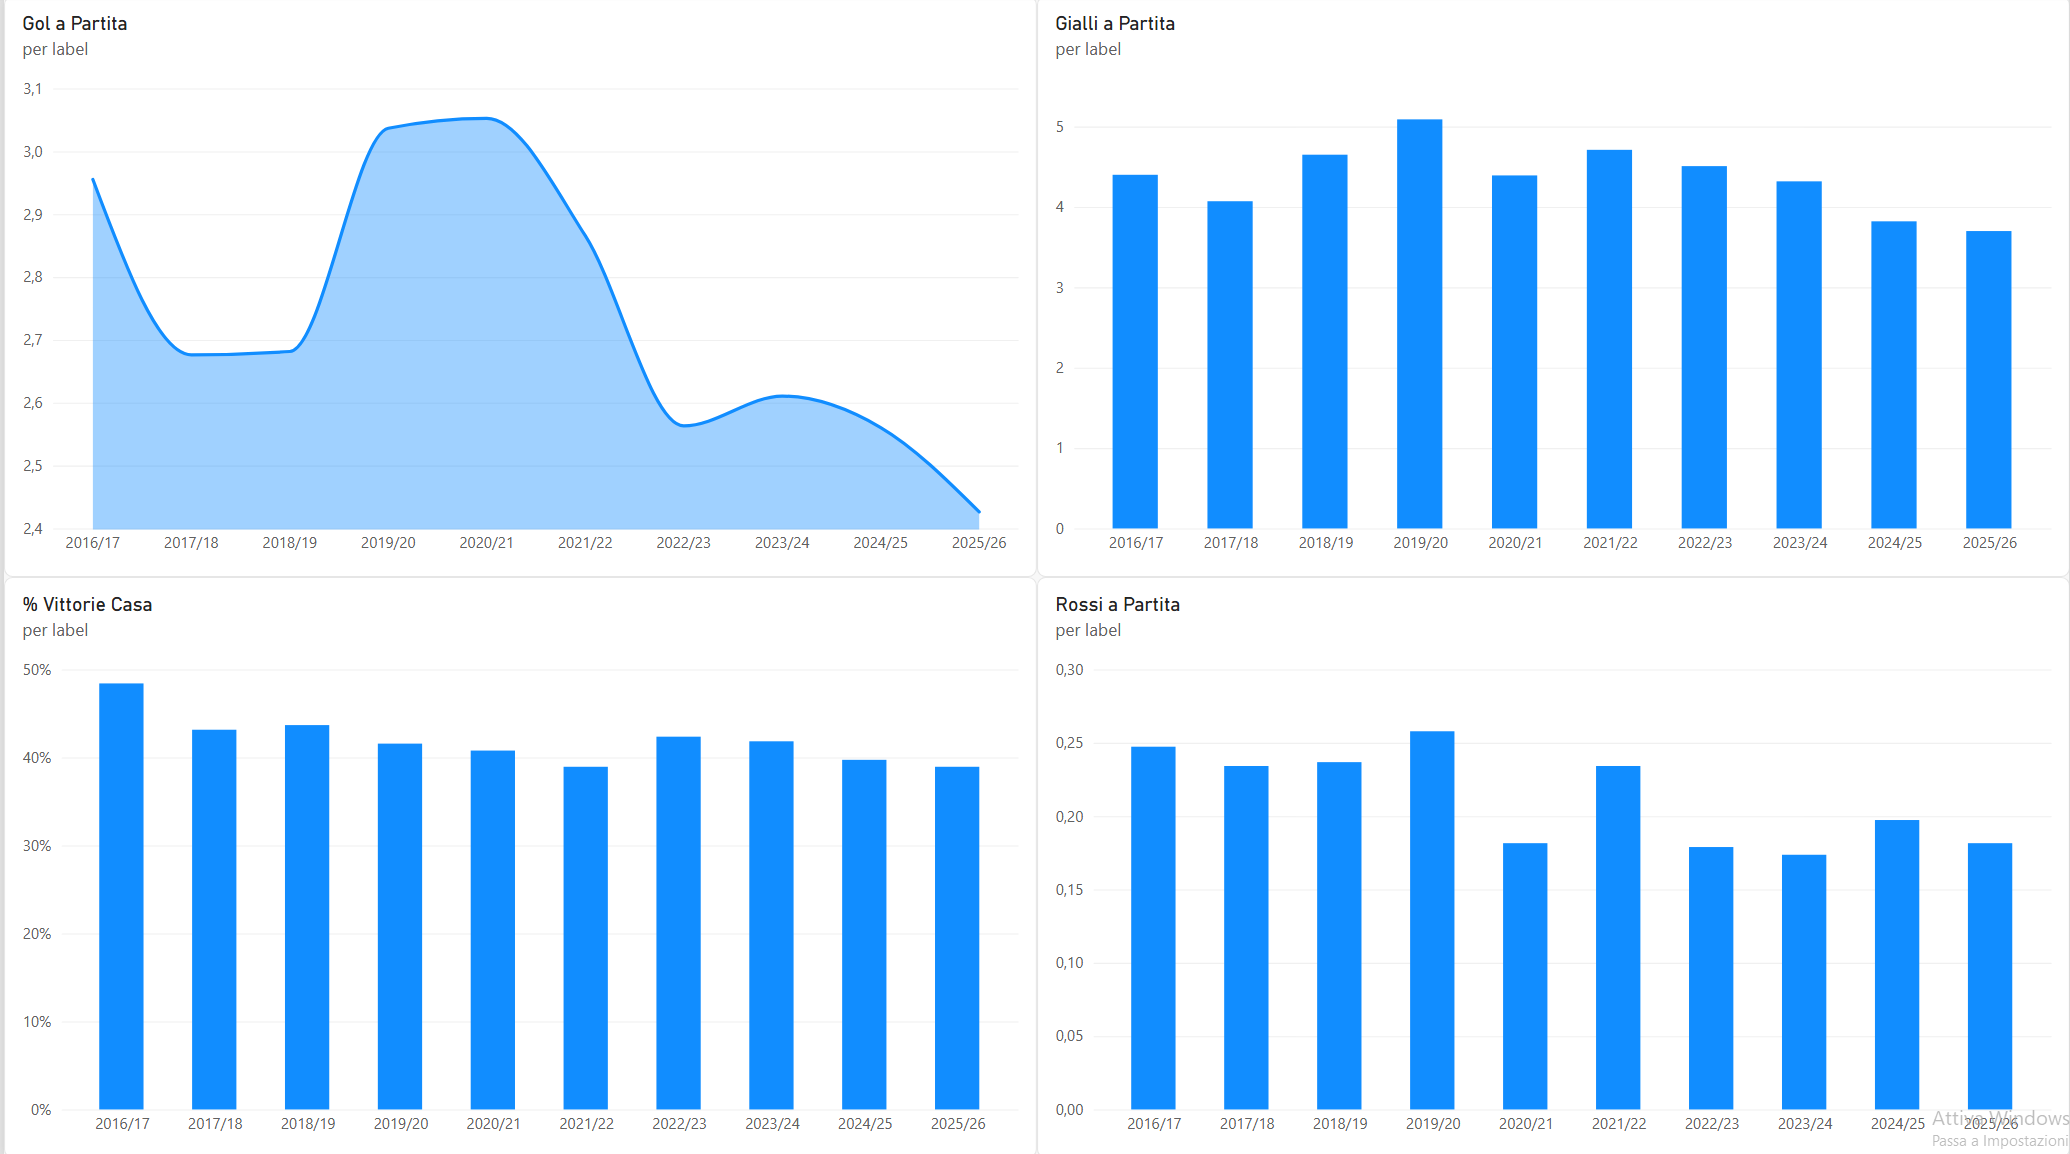

This screenshot's page, from the dashboard's own definition file:
{"tool":"powerbi","page":{"name":"Confronti","canvas":[1920,1080],"ordinal":2},"visuals":[{"type":"areaChart","fields":{"Category":["dim_season.label"],"Y":["Misure.Gol a Partita"]},"box":[0,0,960,539.9],"z":0},{"type":"clusteredColumnChart","fields":{"Category":["dim_season.label"],"Y":["Misure.% Vittorie Casa"]},"box":[0,539.9,960,539.9],"z":1},{"type":"clusteredColumnChart","fields":{"Category":["dim_season.label"],"Y":["Misure.Gialli a Partita"]},"box":[960,0,960,539.9],"z":3},{"type":"clusteredColumnChart","fields":{"Category":["dim_season.label"],"Y":["Misure.Rossi a Partita"]},"box":[960,539.9,960,539.9],"z":4}]}

Visuals, with their boxes on the page's 1920x1080 design canvas (x1, y1, x2, y2). These are canvas units, not pixel positions in the 2070x1154 screenshot, which may show the page scaled, cropped or inside an application window:
areaChart - dim_season.label x Misure.Gol a Partita: 0 0 960 540
clusteredColumnChart - dim_season.label x Misure.% Vittorie Casa: 0 540 960 1080
clusteredColumnChart - dim_season.label x Misure.Gialli a Partita: 960 0 1920 540
clusteredColumnChart - dim_season.label x Misure.Rossi a Partita: 960 540 1920 1080
